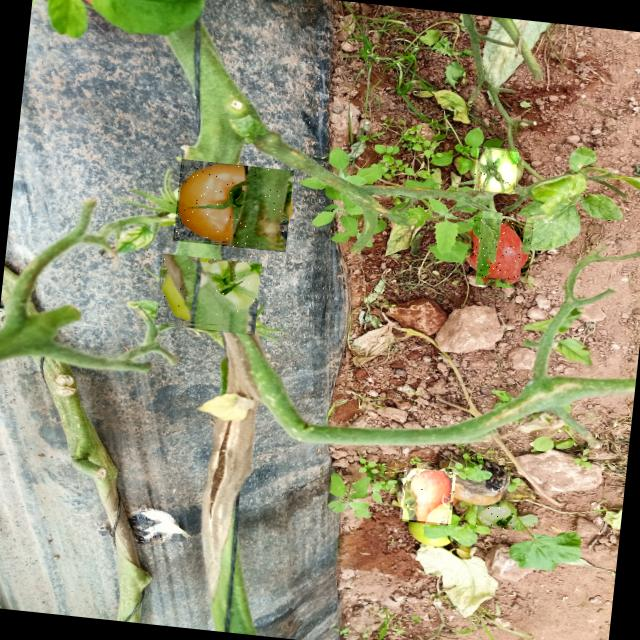Ripe Tomato: (468, 216, 534, 282), (399, 466, 456, 524)
Unripe Tomato: (172, 159, 294, 252), (154, 253, 262, 335), (403, 511, 461, 554), (472, 148, 518, 194), (474, 504, 516, 530)
